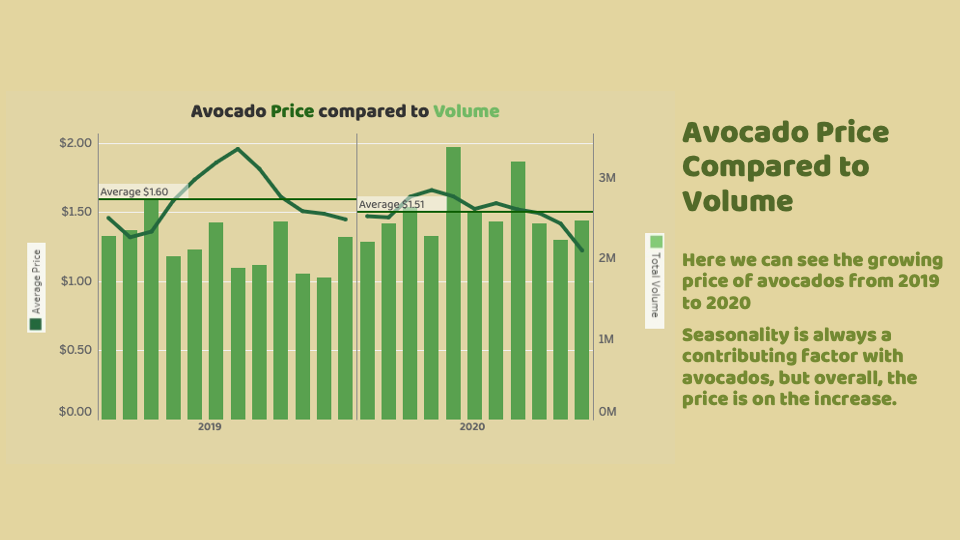

The dashboard page shown, as its layout file describes it:
{"tool":"tableau","page":{"name":"Dashboard - Average Prices","canvas":[1016,964],"ordinal":0},"visuals":[{"type":"worksheet","param":"Image/Cado_Creations_logo.png","box":[1,9,587,176]},{"type":"worksheet","box":[816,32,164,52]}]}

Visuals, with their boxes on the page's 1016x964 design canvas (x1, y1, x2, y2). These are canvas units, not pixel positions in the 960x540 screenshot, which may show the page scaled, cropped or inside an application window:
worksheet: 1 9 588 185
worksheet: 816 32 980 84
